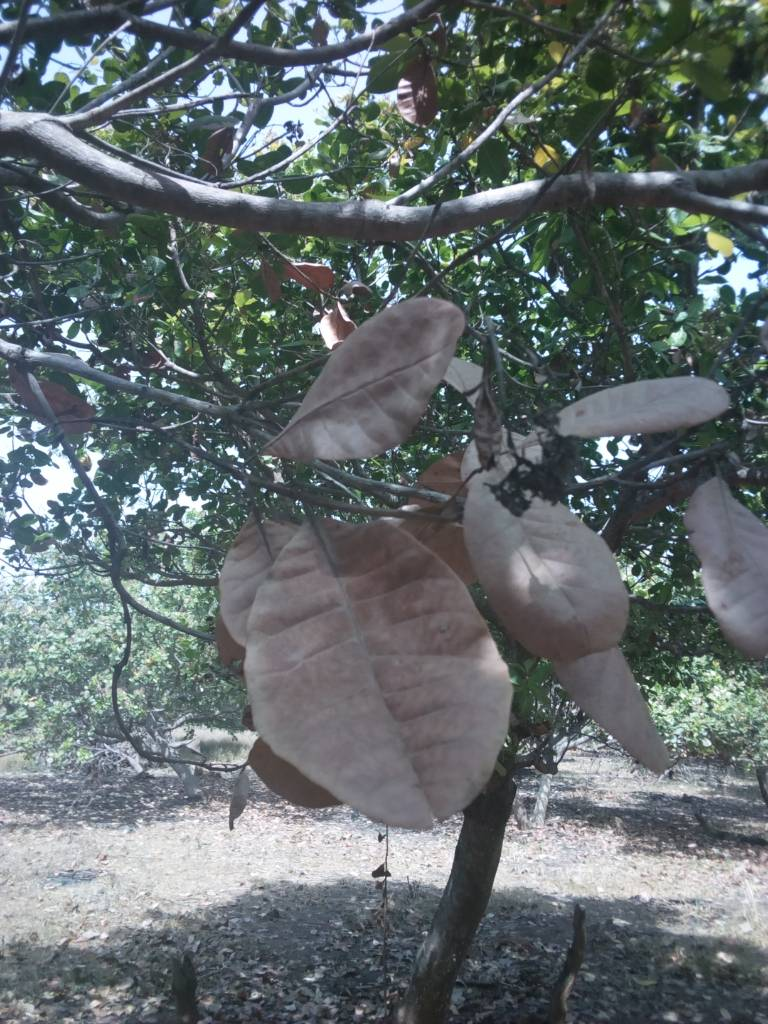Dessèchement des bourgeons: (459, 363, 587, 520)
